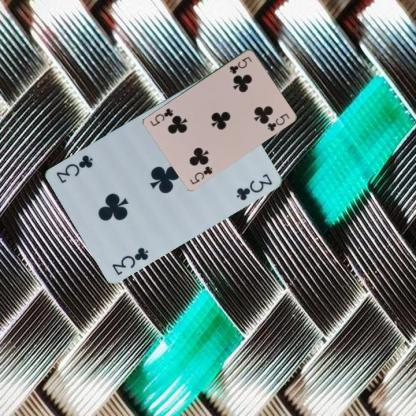3c: (109, 244, 150, 276)
5c: (187, 163, 214, 185), (227, 54, 254, 75)
